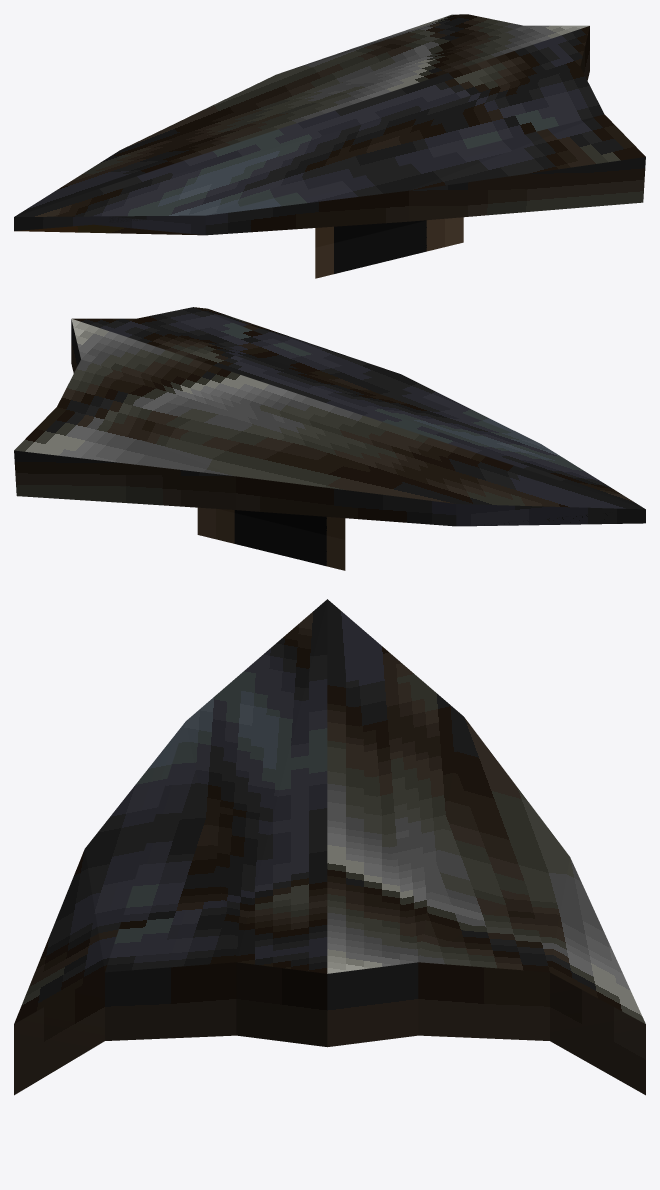
File: 6B.WEP_posed.obj
3 views of the same model, one above another, from view 1: azimuth 30°, elevation 25°; view 2: azimuth 150°, elevation 25°; view 3: azimuth 270°, elevation 25° (orthographic). The views are drawn at different scales.
Size of the model in its own units: 214 by 66 by 125.
1 material, 1 textured.
